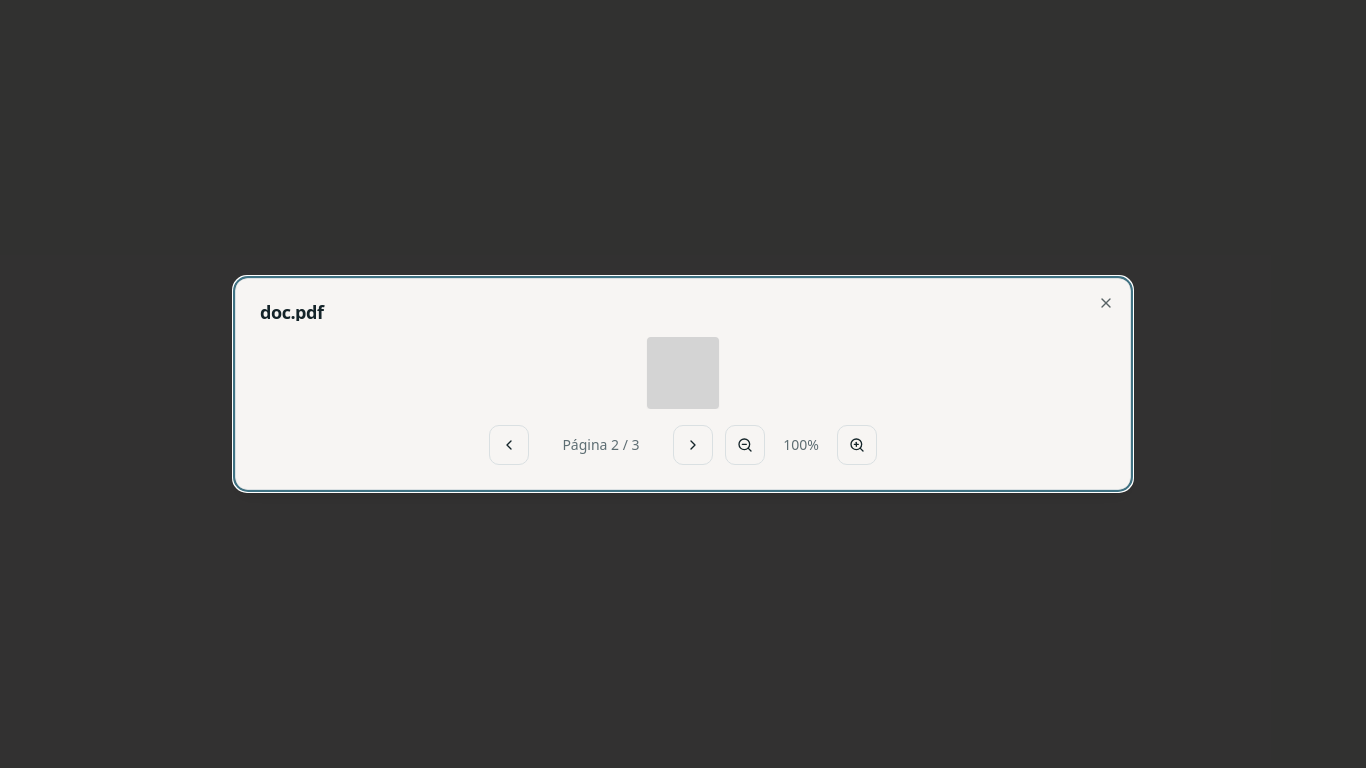
PdfPreviewModal (forms) › navigates to the previous page when the prev button is clicked
expect the text "Página 2 / 3" is shown: met, box [562,435,640,454]
Step 1. Click the button named "Página anterior" → (509, 445), box [489,425,529,465]
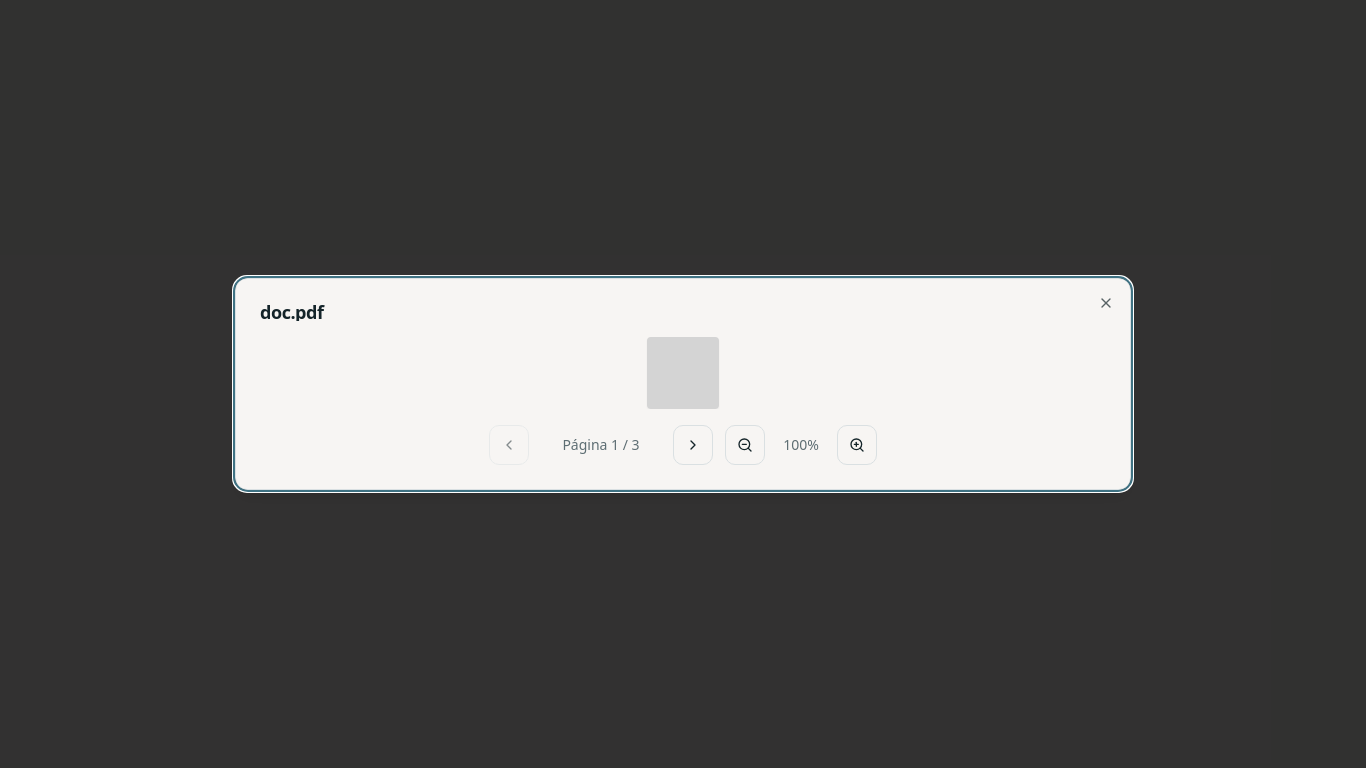
expect the text "Página 1 / 3" is shown: met, box [562,435,640,454]
